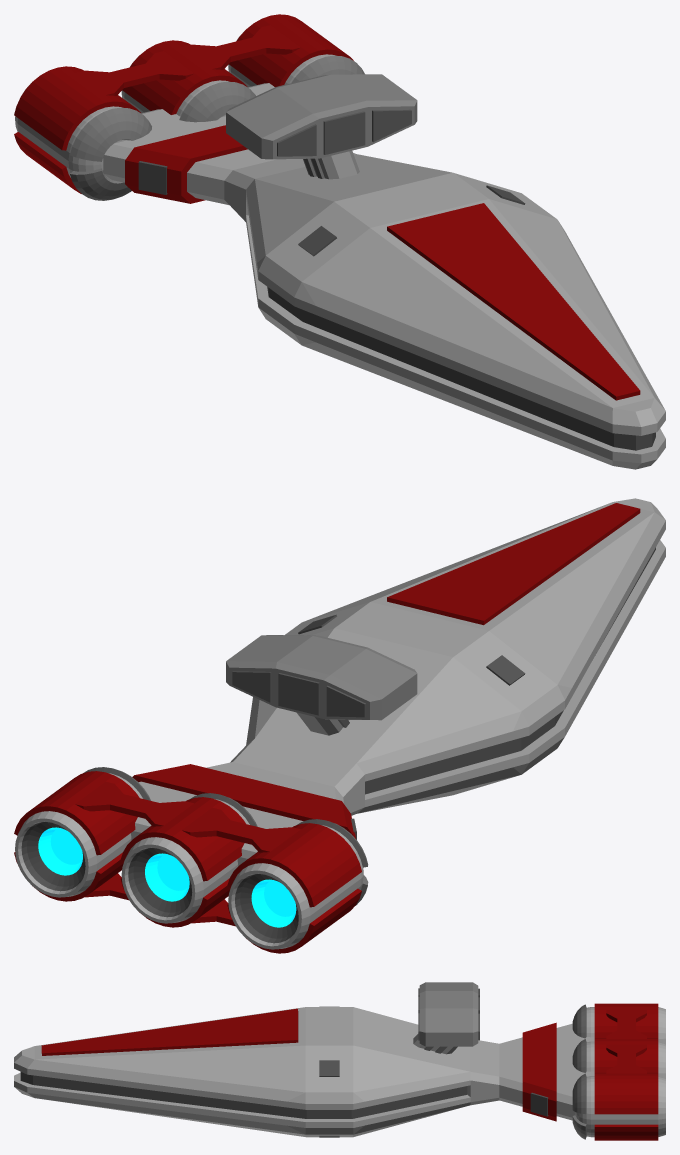
File: Frigate.fbx
3 renders of one model, top to bottom at view 1: azimuth 30°, elevation 25°; view 2: azimuth 150°, elevation 25°; view 3: azimuth 270°, elevation 25°, orthographic. The views are drawn at different scales.
Parts seen in each view (by area): view 1: Body, Bridge, Engine.001, Rear Body, Engine.002, Engine, Engine Connector, Bridge Tower, Hardpoint Small.005; view 2: Body, Engine.001, Bridge, Engine, Engine.002, Rear Body, Engine Connector, Engine Connector.001, Bridge Tower; view 3: Body, Rear Body, Engine, Bridge, Engine.001, Engine.002, Engine Connector, Hardpoint Small.001, Hardpoint Small, Bridge Tower.
Part boxes in pixels (x1,y1,x2,y2): Body: (224,153,665,469); Bridge: (226,74,417,159); Engine.001: (14,66,151,200); Rear Body: (103,83,276,205); Engine.002: (121,40,255,122); Engine: (228,14,364,87); Engine Connector: (75,25,300,95); Bridge Tower: (303,150,359,179); Hardpoint Small.005: (138,161,167,194); Body: (230,498,665,815); Engine.001: (227,819,368,953); Bridge: (226,635,417,720); Engine: (14,767,150,901); Engine.002: (120,793,257,927); Rear Body: (131,762,355,866); Engine Connector: (75,781,300,852); Engine Connector.001: (84,873,235,926); Bridge Tower: (296,712,349,735); Body: (14,1007,499,1137); Rear Body: (499,1022,594,1121); Engine: (572,1072,665,1140); Bridge: (418,982,479,1046); Engine.001: (572,1003,665,1043); Engine.002: (572,1038,665,1078); Engine Connector: (606,1010,646,1073); Hardpoint Small.001: (530,1092,548,1116); Hardpoint Small: (319,1060,339,1076); Bridge Tower: (413,1034,457,1054).
Size of the model in its own units: 9.35 by 26.47 by 5.39.
